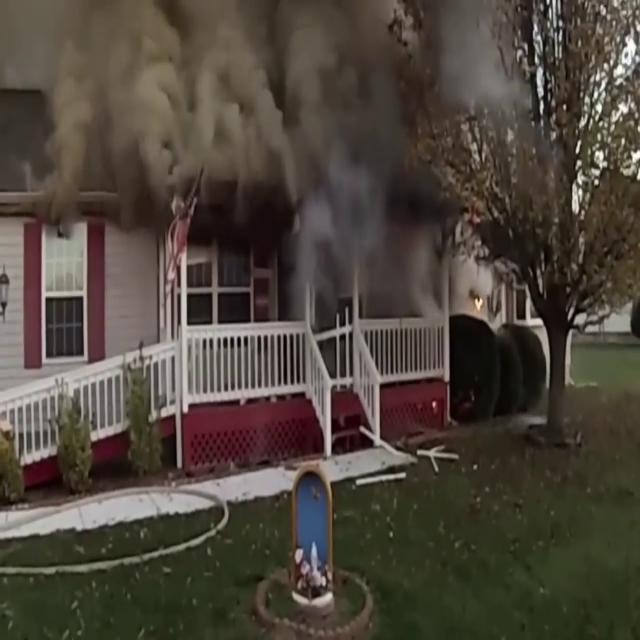Smoke: (14, 0, 454, 266)
